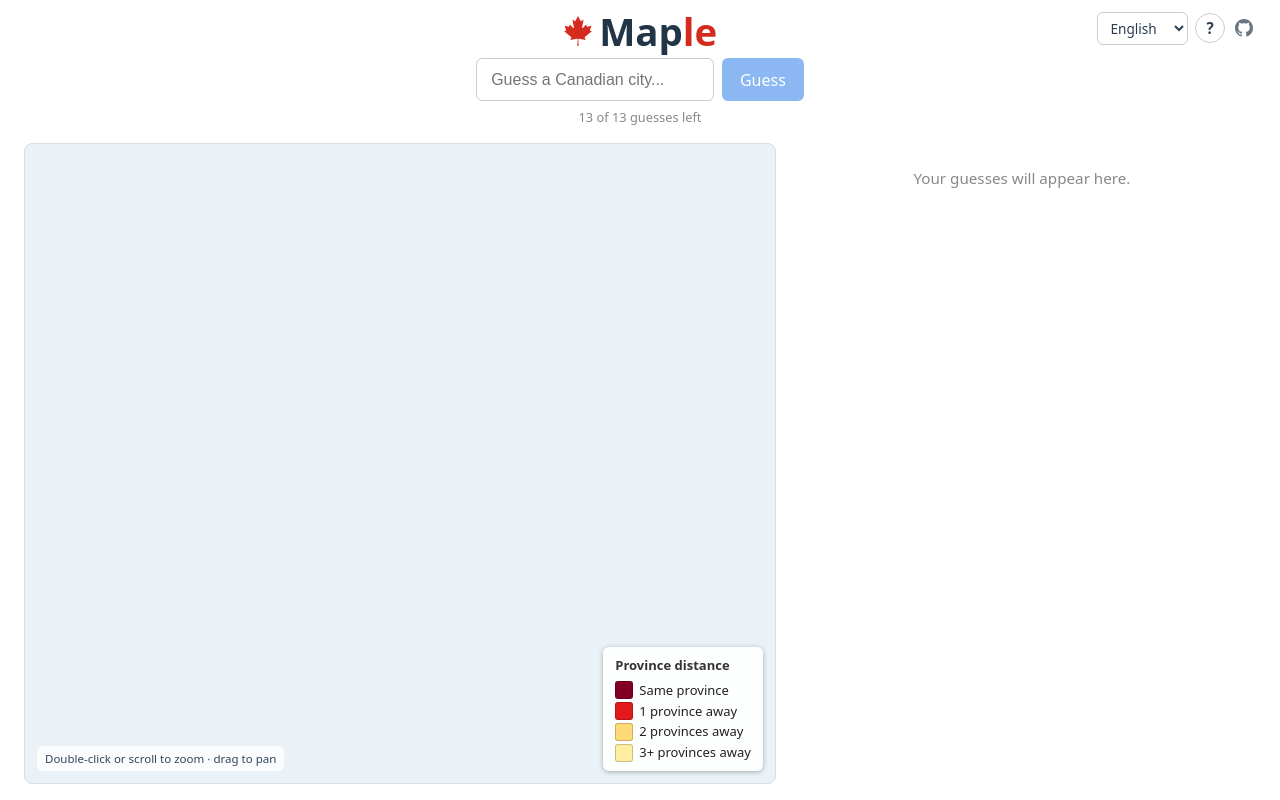
it: App — playing › shows the API's own message when a guess is rejected
The image size is (1280, 800).
Type "Narnia" into the dropdown with placeholder "Guess a Canadian city..." at (595, 80), box top-left (476, 58), bottom-right (714, 101)
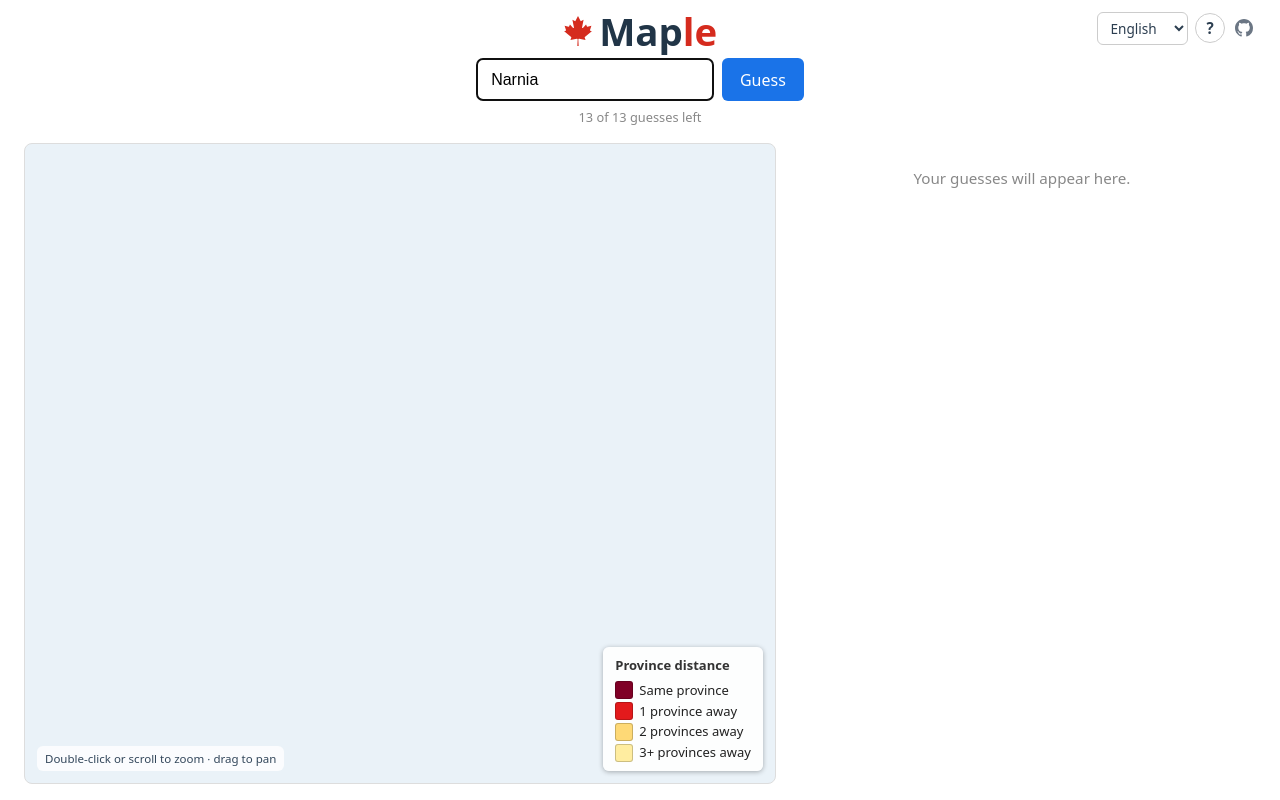
Press Escape Enter
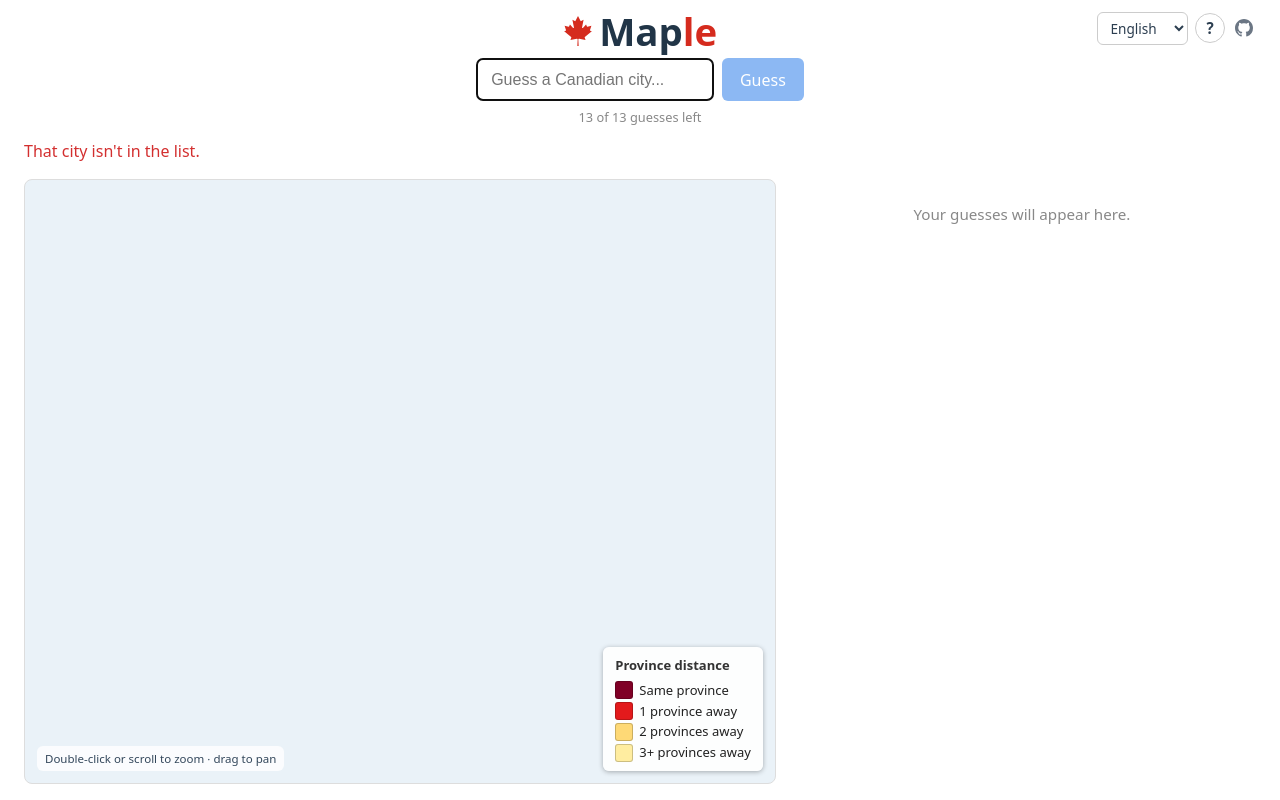
Now the text "That city isn't in the list." is shown, box top-left (24, 140), bottom-right (200, 162)
